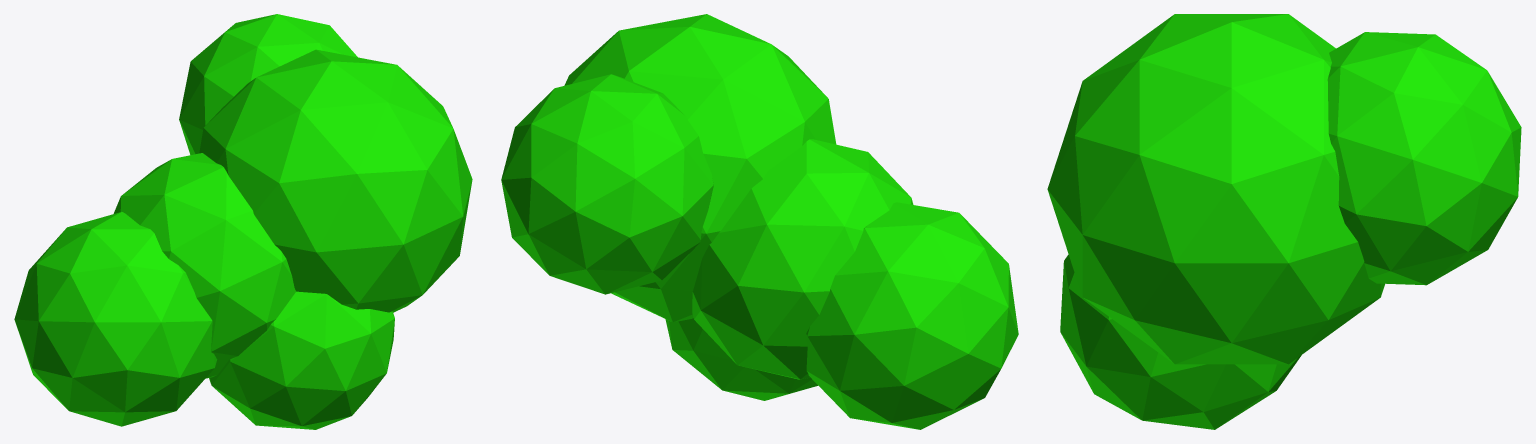
The model's file is bush 7.fbx.
3 renders of one model, left to right at view 1: azimuth 30°, elevation 25°; view 2: azimuth 150°, elevation 25°; view 3: azimuth 270°, elevation 25°, orthographic. The views are drawn at different scales.
Visible parts, largest first — view 1: Icosphere.007; view 2: Icosphere.007; view 3: Icosphere.007.
Boxes of the visible parts, left/top/right/bottom form: Icosphere.007: left=14, top=14, right=472, bottom=429; Icosphere.007: left=501, top=14, right=1018, bottom=429; Icosphere.007: left=1047, top=14, right=1521, bottom=429.
Bounding box in the file's own units: 330 × 256 × 257.
